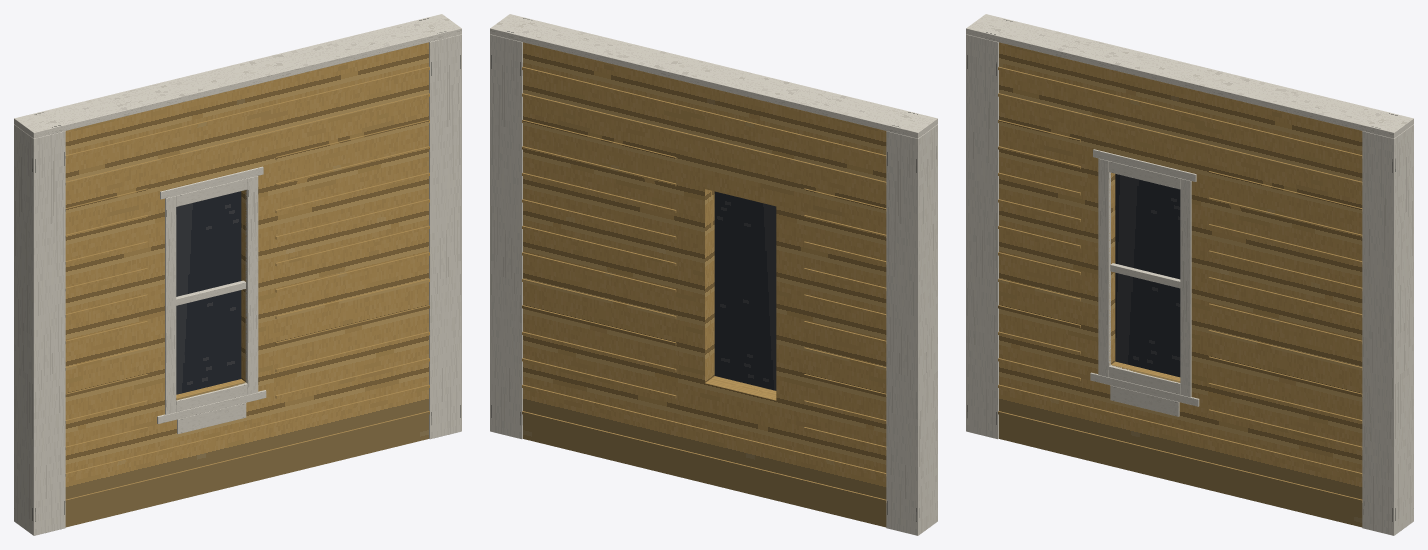
The model's file is house_03_wall_window.glb.
The picture shows the model from 3 angles, left to right: view 1: azimuth 30°, elevation 25°; view 2: azimuth 150°, elevation 25°; view 3: azimuth 330°, elevation 25°; orthographic projection.
Visible parts, largest first — view 1: house_03_wall_window; view 2: house_03_wall_window; view 3: house_03_wall_window.
Boxes of the visible parts, x1,y1,x2,y2 form: house_03_wall_window: (14, 14, 461, 535); house_03_wall_window: (490, 14, 937, 535); house_03_wall_window: (966, 14, 1413, 535).
Size of the model in its own units: 3 by 2.7 by 0.24.
3 materials, 3 textured.
